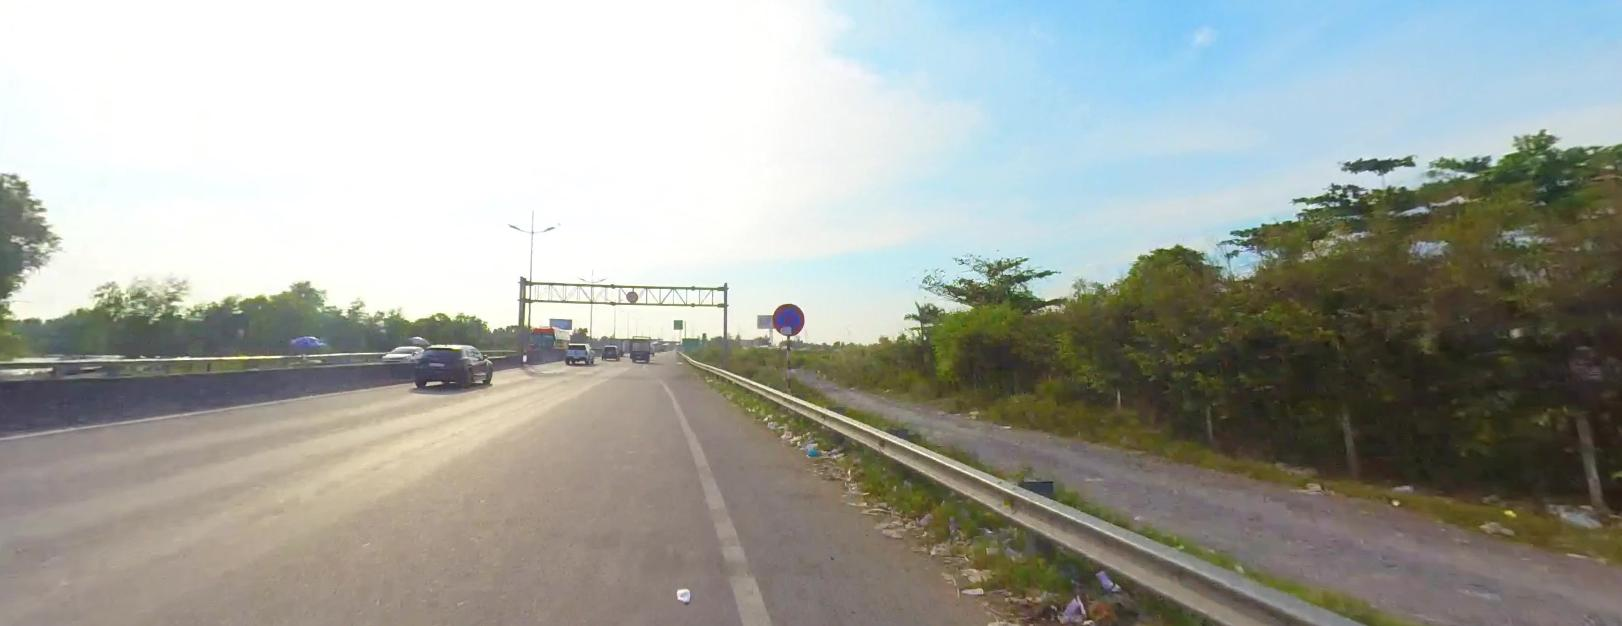Cam con lai: (625, 289, 637, 301)
Cam dung va do: (771, 300, 804, 335)
